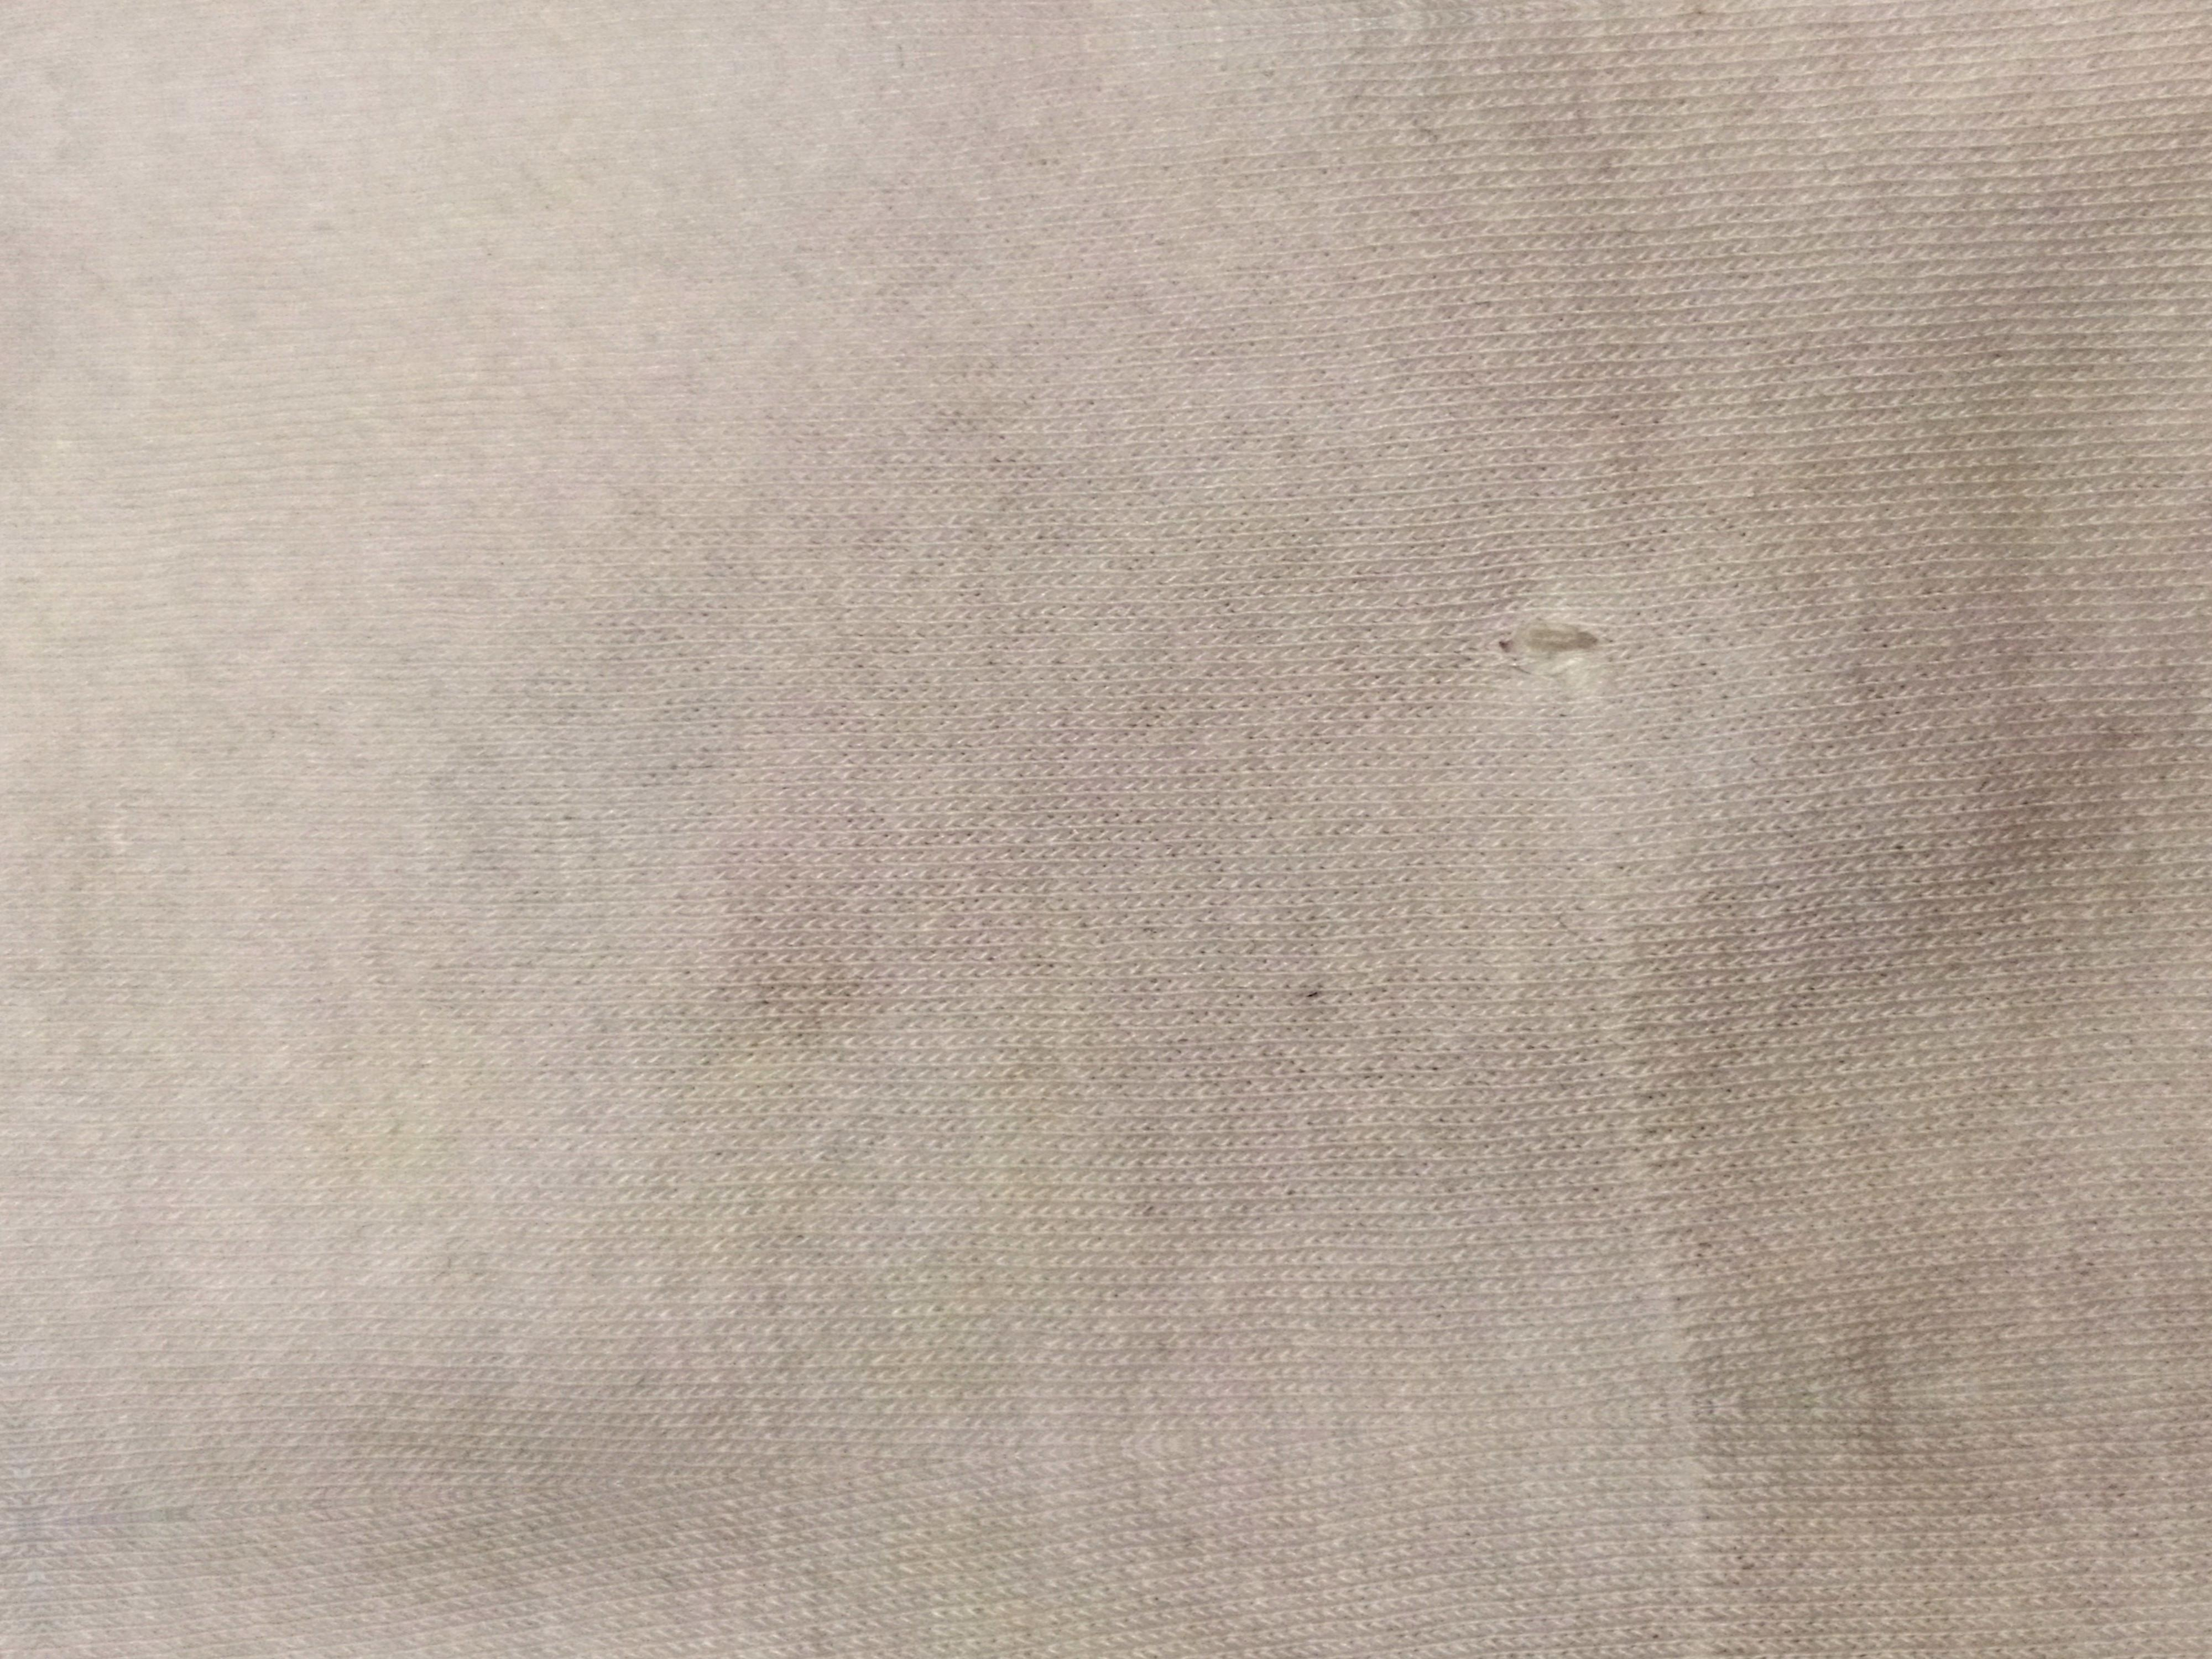knot: (1470, 582, 1634, 721)
